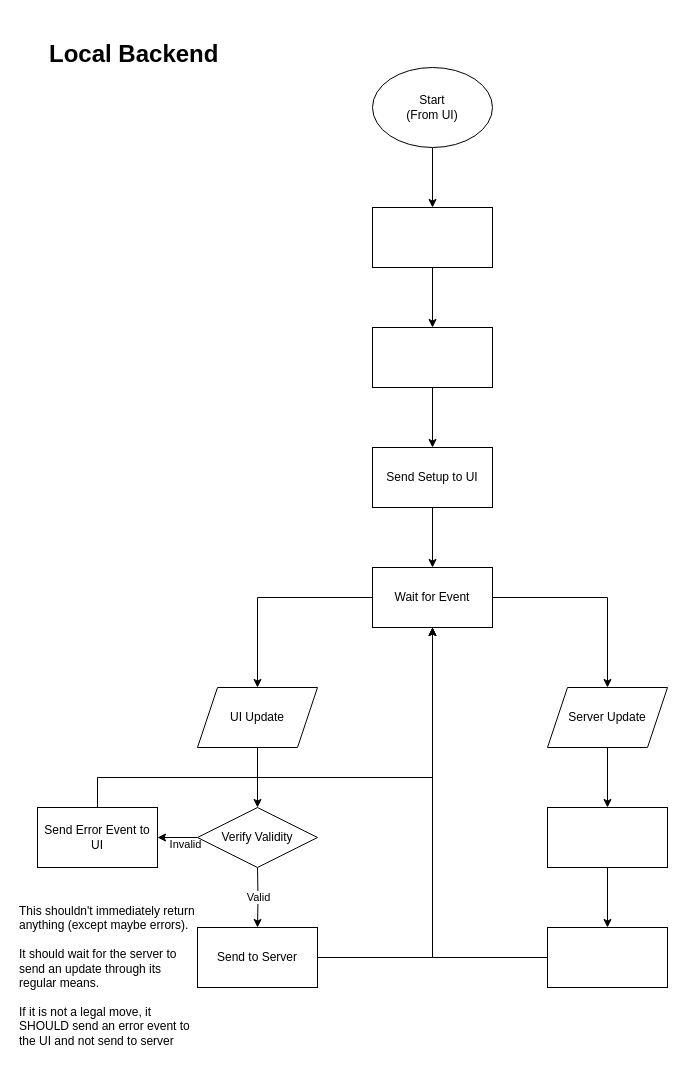
Image size: 685x1077. Some labels were removed from this diagram. Here are the shapes that lost their labels. From the top down, the centre of each, then its label:
At point 432,237: "Connect to Server".
At point 432,357: "Initialize Game State".
At point 607,837: "Update Game State".
At point 607,957: "Update UI".
